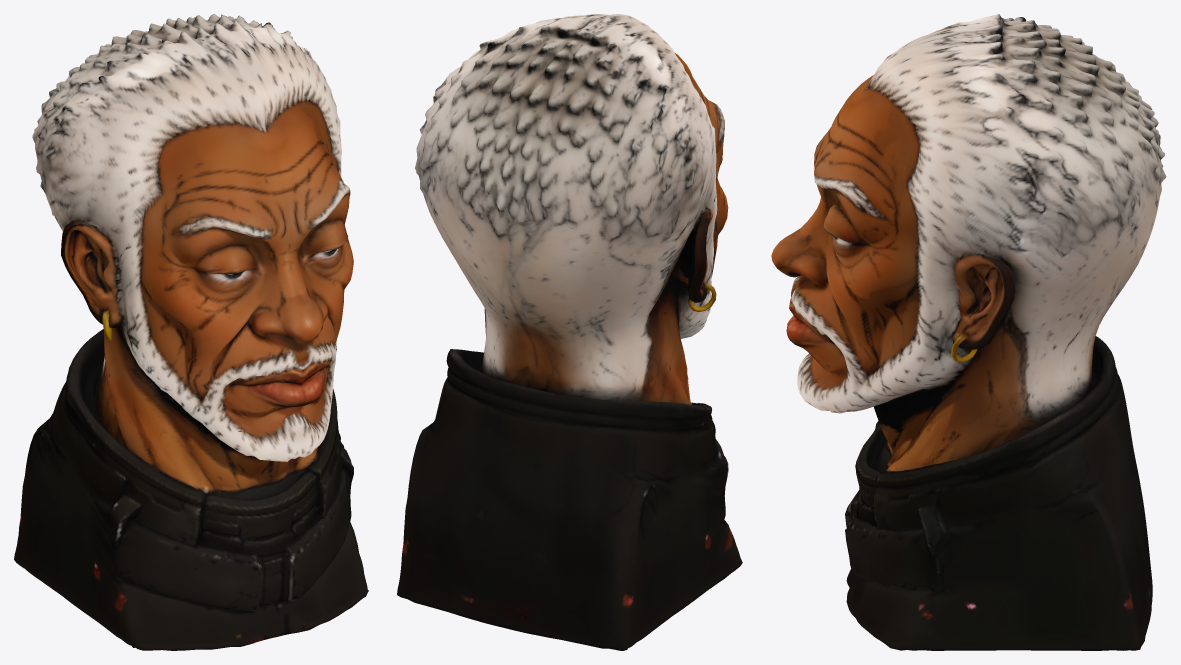
Rendered from orlick_face.fbx.
3 renders of one model, left to right at view 1: azimuth 30°, elevation 25°; view 2: azimuth 150°, elevation 25°; view 3: azimuth 270°, elevation 25°, orthographic. The views are drawn at different scales.
Parts seen in each view (by area): view 1: model; view 2: model; view 3: model.
Part boxes in pixels (left/top/right/bottom): model: left=14, top=14, right=368, bottom=650; model: left=397, top=14, right=742, bottom=650; model: left=771, top=14, right=1166, bottom=650.
Size of the model in its own units: 96.66 by 189 by 121.
